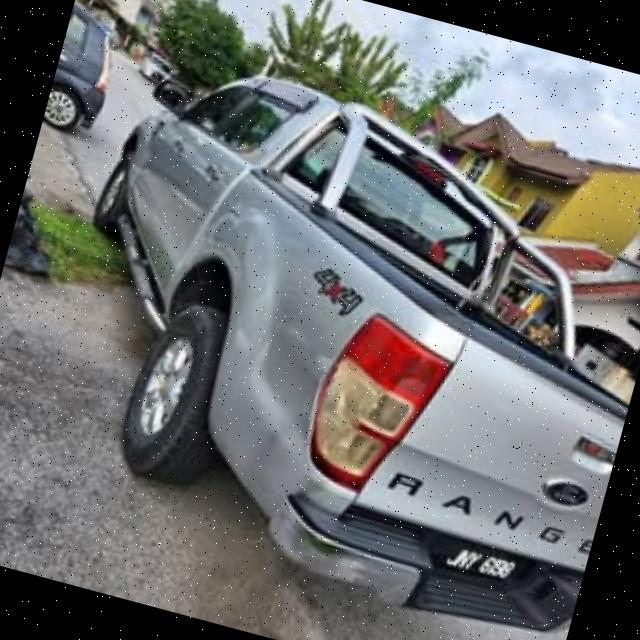License_Plate: (421, 529, 528, 593)
car: (14, 38, 640, 640)
